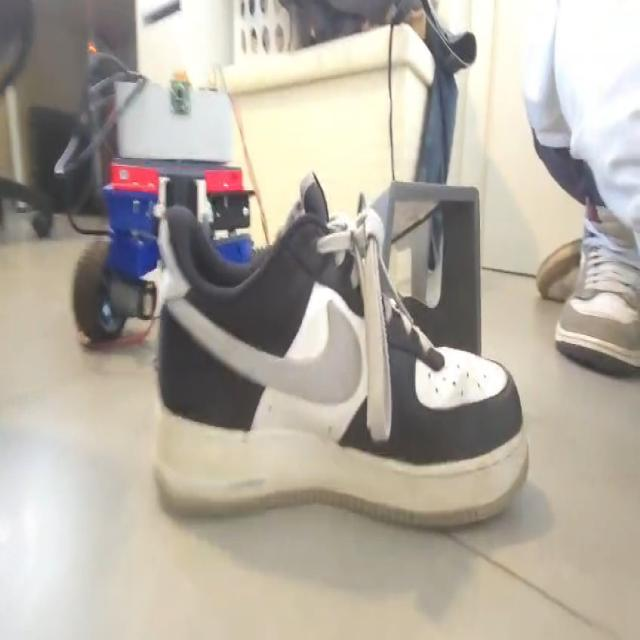Robot: (73, 66, 256, 344)
